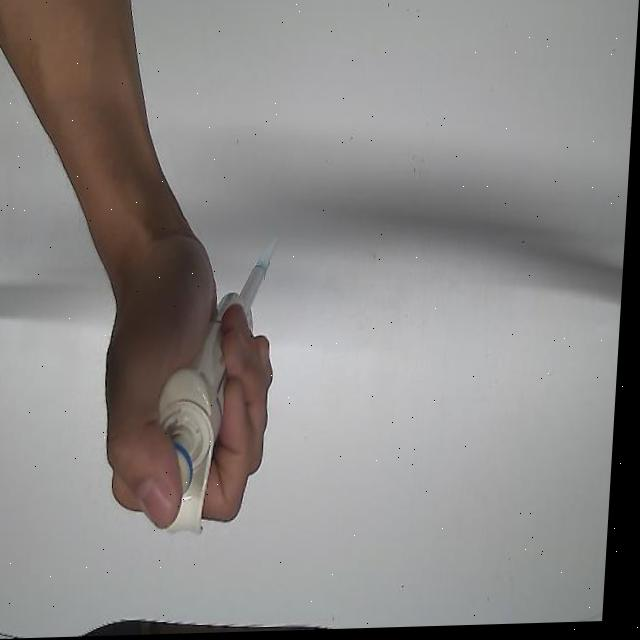Single Channel Pipettor: (155, 262, 275, 547)
